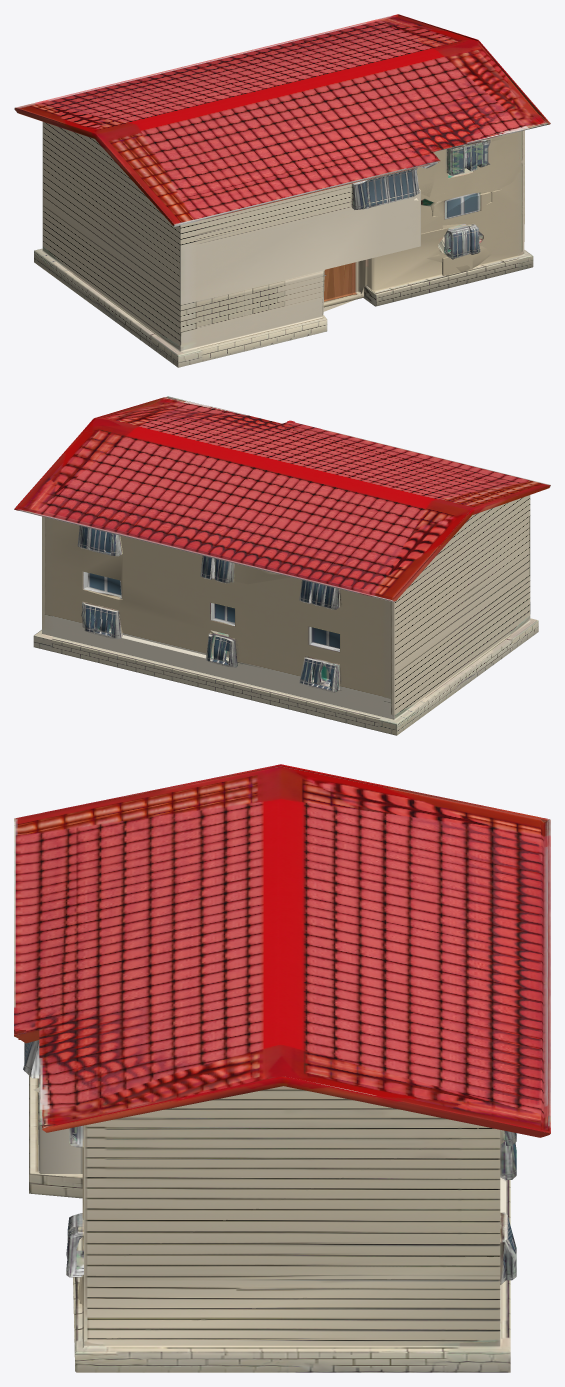
The model's file is placed_bld_556597978.glb.
3 renders of one model, top to bottom at view 1: azimuth 30°, elevation 25°; view 2: azimuth 150°, elevation 25°; view 3: azimuth 270°, elevation 25°, orthographic. The views are drawn at different scales.
Visible parts, largest first — view 1: bld_556597978; view 2: bld_556597978; view 3: bld_556597978.
Part boxes in pixels (x1,y1,x2,y2): bld_556597978: [14, 14, 550, 367]; bld_556597978: [14, 396, 550, 735]; bld_556597978: [14, 764, 550, 1372].
Size of the model in its own units: 15.11 by 6.8 by 10.94.
Materials: 1 (1 with a texture image).
